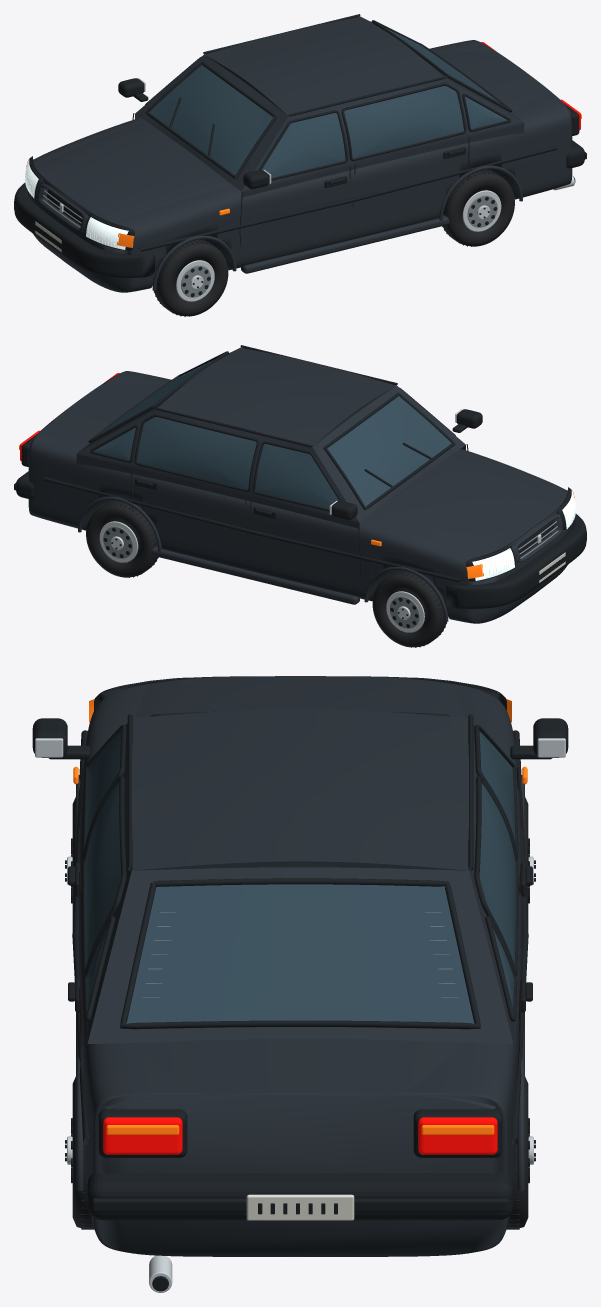
Rendered from ninety-nine.glb.
3 renders of one model, top to bottom at view 1: azimuth 30°, elevation 25°; view 2: azimuth 150°, elevation 25°; view 3: azimuth 270°, elevation 25°, orthographic. The views are drawn at different scales.
Visible parts, largest first — view 1: Body_Paint_ninety-nine, Body_Curved smoked glass.005, Body_Black trim.005, StockBumpers_Black trim.005, Wheel_FR_Tyre.005, Wheel_RR_Tyre.005, StockSkirts_Paint_ninety-nine, StockFenders_Paint_ninety-nine, Body_Prismatic headlight glass.005, Wheel_RR_Machined aluminium.005, Wheel_FR_Machined aluminium.005, Wheel_FR_Brake steel.005 (+2 smaller); view 2: Body_Paint_ninety-nine, Body_Curved smoked glass.005, Body_Black trim.005, StockBumpers_Black trim.005, Wheel_FL_Tyre.005, Wheel_RL_Tyre.005, StockSkirts_Paint_ninety-nine, StockFenders_Paint_ninety-nine, Body_Prismatic headlight glass.005, Wheel_RL_Machined aluminium.005, Wheel_FL_Machined aluminium.005, Wheel_FL_Brake steel.005 (+2 smaller); view 3: Body_Paint_ninety-nine, Body_Curved smoked glass.005, Body_Black trim.005, StockBumpers_Black trim.005, Body_Red lens.005, Body_Numberplate.005, StockFenders_Paint_ninety-nine, Body_Amber lens.005, Body_Machined aluminium.005, Wheel_RR_Tyre.005, Wheel_RL_Tyre.005.
Part boxes in pixels (box(x1,y1,x2,y2)): Body_Paint_ninety-nine: box(27, 16, 572, 292); Body_Curved smoked glass.005: box(148, 28, 507, 177); Body_Black trim.005: box(27, 14, 579, 251); StockBumpers_Black trim.005: box(14, 140, 586, 277); Wheel_FR_Tyre.005: box(152, 239, 228, 316); Wheel_RR_Tyre.005: box(442, 169, 514, 246); StockSkirts_Paint_ninety-nine: box(241, 215, 449, 273); StockFenders_Paint_ninety-nine: box(152, 165, 522, 290); Body_Prismatic headlight glass.005: box(25, 159, 128, 249); Wheel_RR_Machined aluminium.005: box(462, 190, 501, 231); Wheel_FR_Machined aluminium.005: box(176, 260, 214, 301); Wheel_FR_Brake steel.005: box(181, 265, 210, 297); Body_Paint_ninety-nine: box(28, 347, 573, 623); Body_Curved smoked glass.005: box(93, 359, 451, 508); Body_Black trim.005: box(21, 345, 573, 582); StockBumpers_Black trim.005: box(14, 471, 586, 608); Wheel_FL_Tyre.005: box(372, 570, 448, 647); Wheel_RL_Tyre.005: box(86, 500, 158, 577); StockSkirts_Paint_ninety-nine: box(151, 546, 359, 604); StockFenders_Paint_ninety-nine: box(78, 496, 448, 621); Body_Prismatic headlight glass.005: box(472, 490, 575, 580); Wheel_RL_Machined aluminium.005: box(99, 521, 138, 562); Wheel_FL_Machined aluminium.005: box(386, 591, 424, 632); Wheel_FL_Brake steel.005: box(390, 596, 419, 628); Body_Paint_ninety-nine: box(78, 676, 522, 1256); Body_Curved smoked glass.005: box(85, 731, 515, 1023); Body_Black trim.005: box(32, 676, 568, 1291); StockBumpers_Black trim.005: box(87, 1172, 513, 1220); Body_Red lens.005: box(103, 1117, 497, 1154); Body_Numberplate.005: box(246, 1194, 354, 1220); StockFenders_Paint_ninety-nine: box(76, 775, 524, 1191); Body_Amber lens.005: box(73, 699, 527, 1134); Body_Machined aluminium.005: box(35, 738, 565, 1292); Wheel_RR_Tyre.005: box(72, 1076, 93, 1228); Wheel_RL_Tyre.005: box(507, 1076, 528, 1228).
Bounding box in the file's own units: 4.21 × 1.4 × 1.99.
